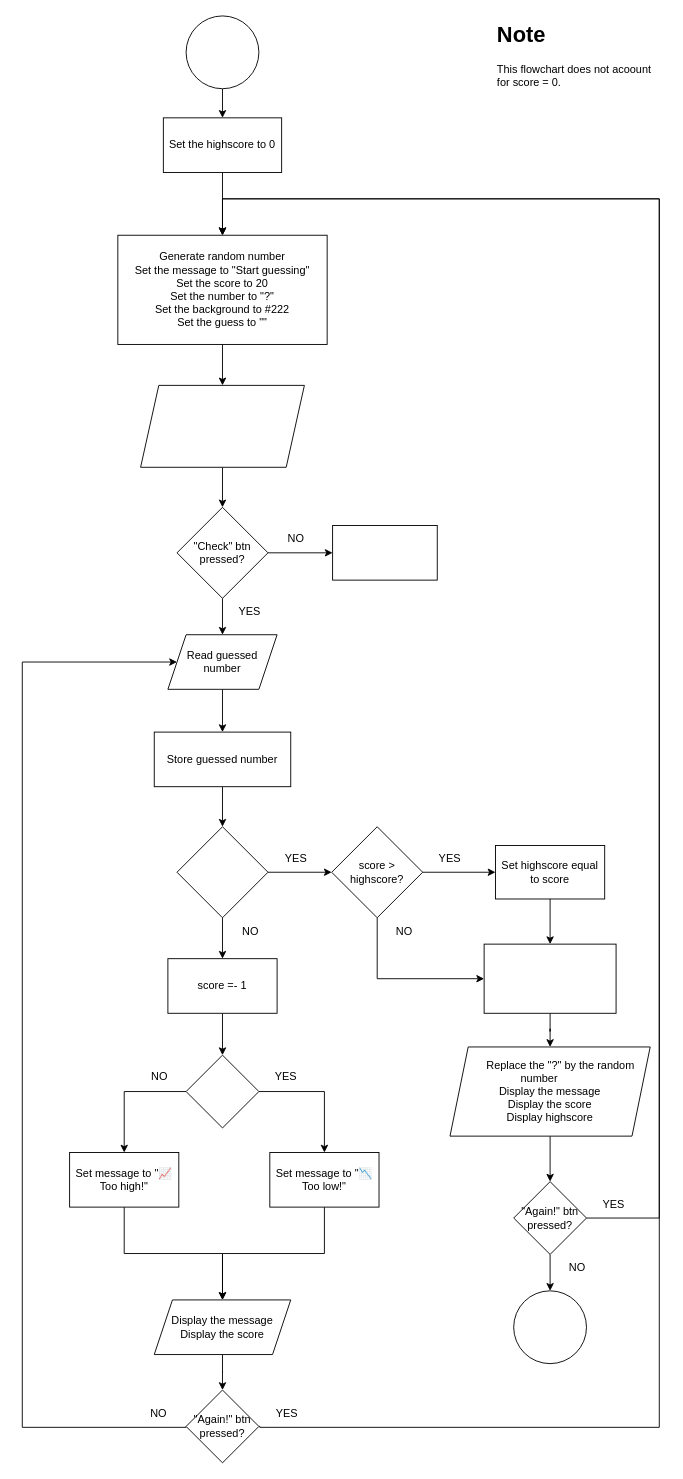
This 683x1479 diagram has some shape labels left out. The centre of each missing label's shape, as x and y in pixels:
Display the message Display the number Display the score Display the highscore: (x=222, y=425)
Do nothing: (x=384, y=552)
END: (x=549, y=1327)
guessed < random?: (x=222, y=1091)
guessed === random?: (x=222, y=872)
Set message to "🎉 Correct number!" Set background to #60b347: (x=549, y=978)
Start: (x=222, y=52)
